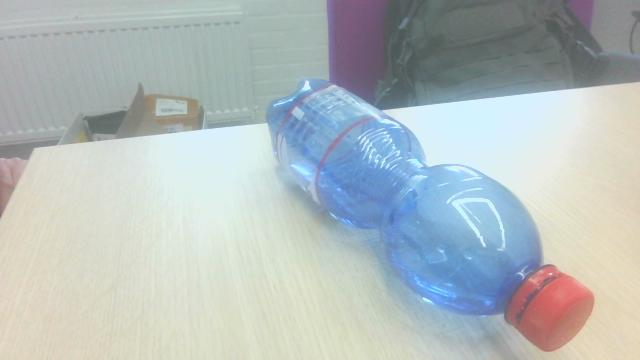plastic_bottle: (254, 73, 602, 358)
